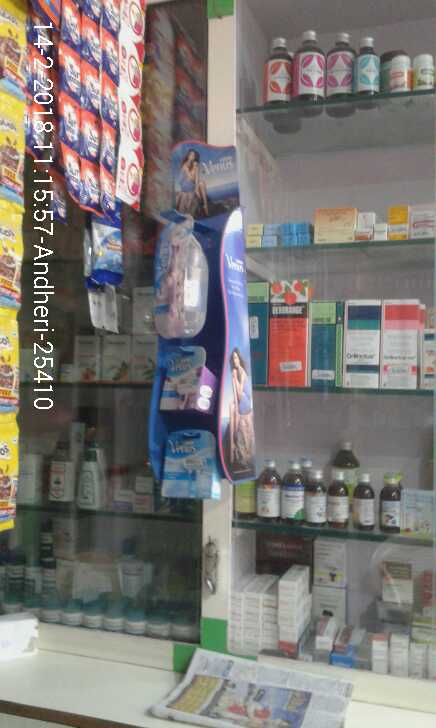beauty: (158, 431, 220, 501), (156, 224, 194, 324), (163, 351, 209, 406)
